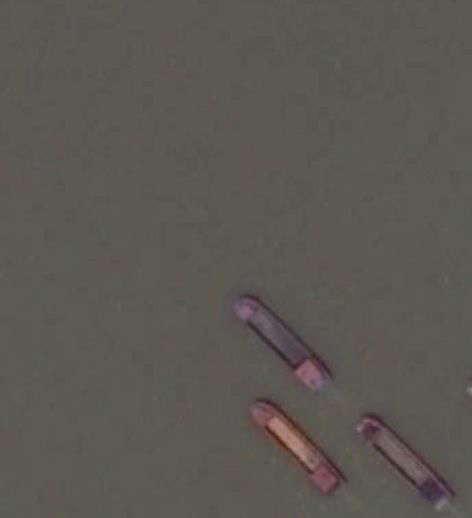boat: (232, 292, 332, 393), (354, 410, 453, 511), (247, 399, 346, 496)
